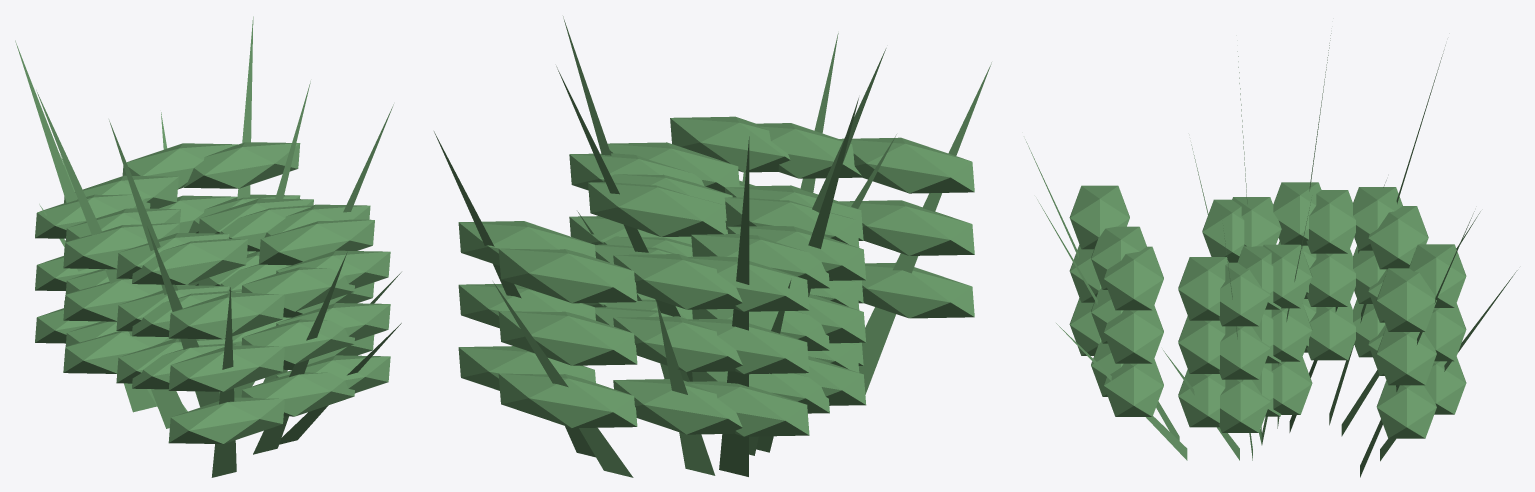
Rendered from nature_fern.glb.
The picture shows the model from 3 angles, left to right: view 1: azimuth 30°, elevation 25°; view 2: azimuth 150°, elevation 25°; view 3: azimuth 270°, elevation 25°; orthographic projection. The views are drawn at different scales.
Parts seen in each view (by area): view 1: nature_fern; view 2: nature_fern; view 3: nature_fern.
Part boxes in pixels (<box>): nature_fern: <box>15,16,401,477</box>; nature_fern: <box>434,16,991,477</box>; nature_fern: <box>1025,33,1517,477</box>.
Bounding box in the file's own units: 0.6084 × 0.66 × 0.8473.
